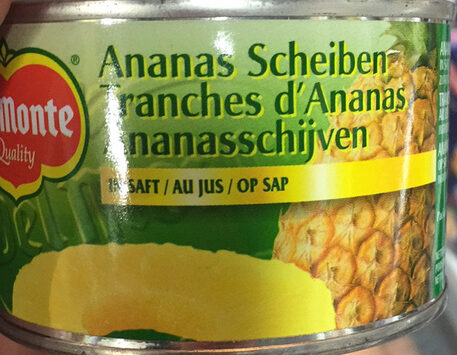Ananas Scheiben: (23, 18, 434, 337)
